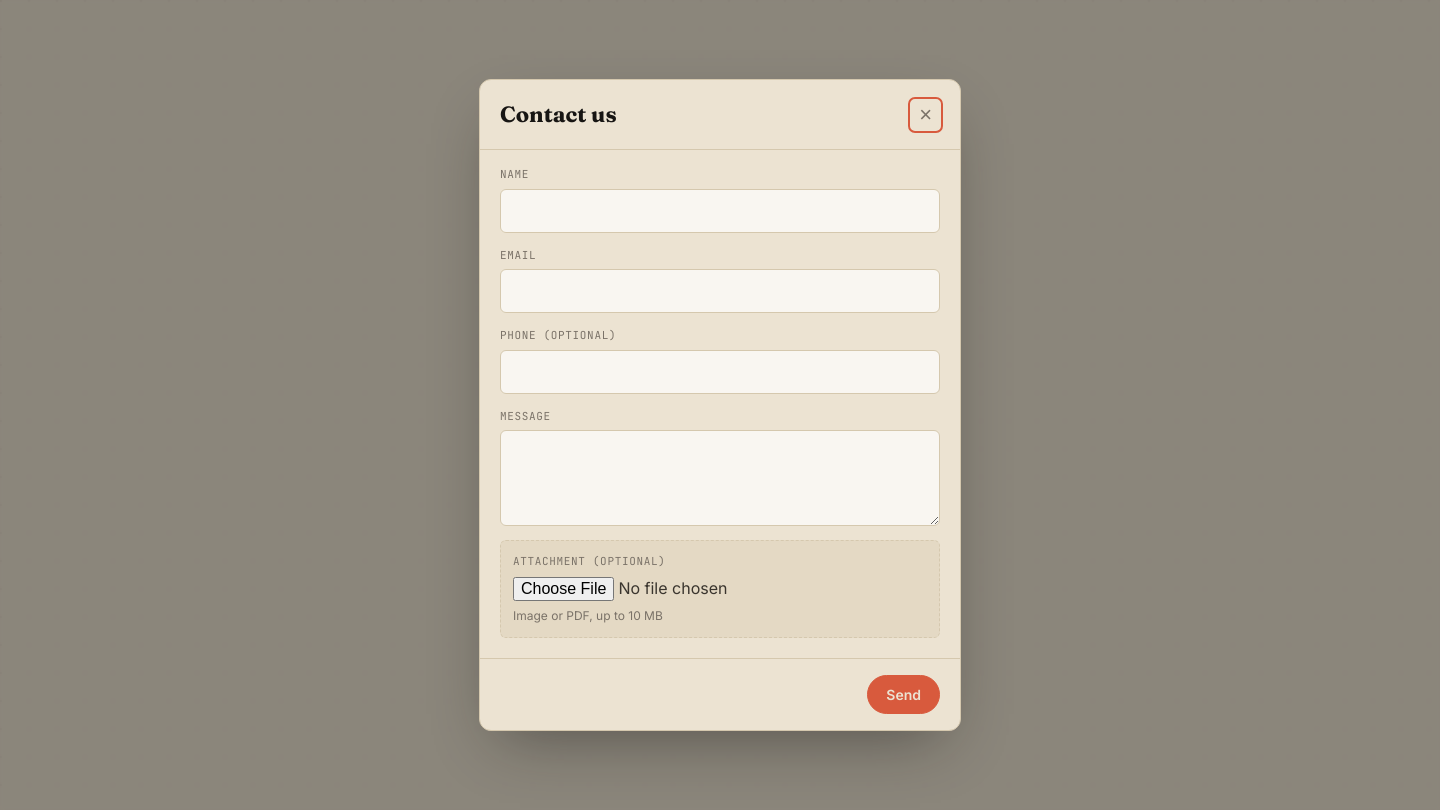
ContactDialog (authenticated) › reports an error when the upload response has no url
Type "Ada" into the field labelled "Name". click: (720, 211)
box: [500,189,940,233]
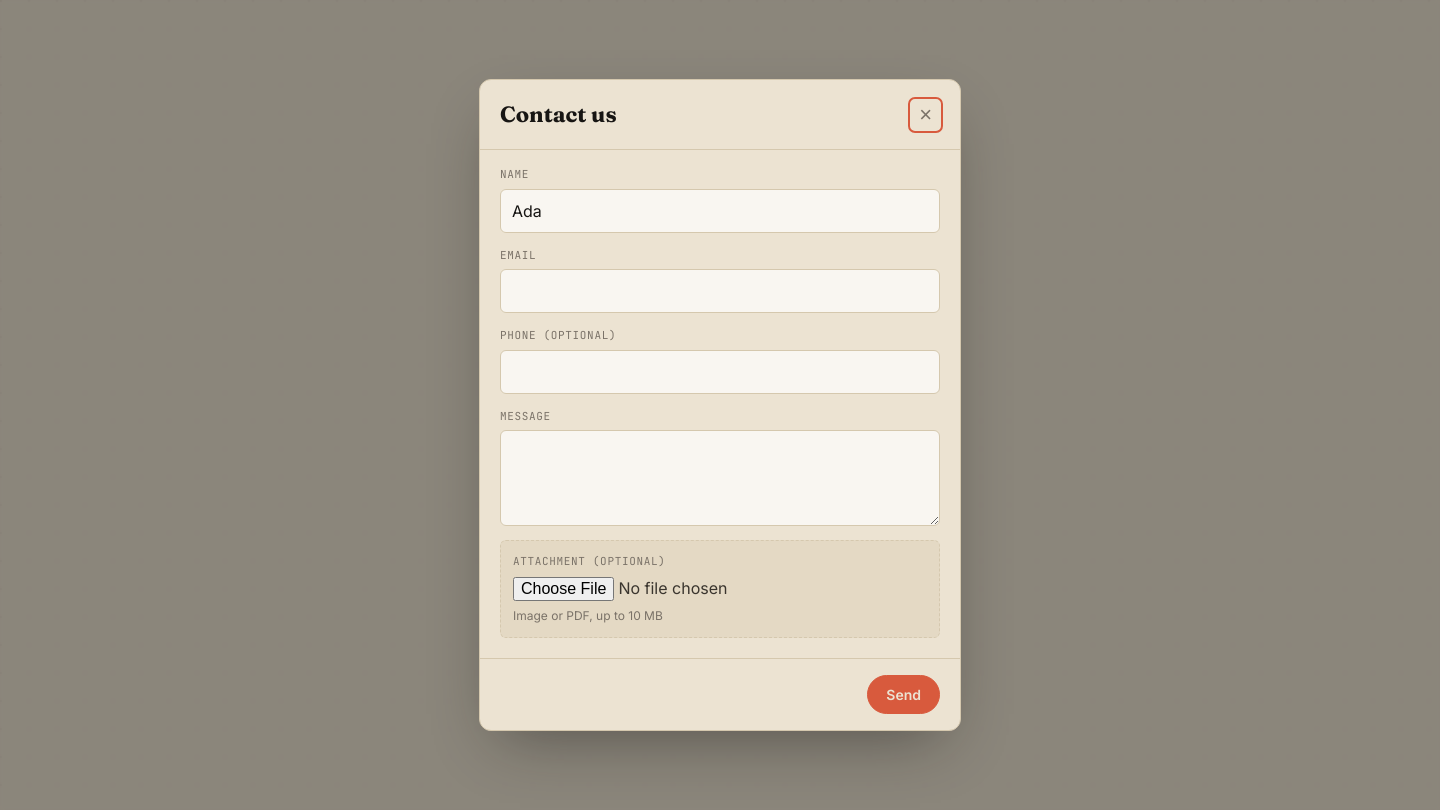
Type "ada@example.com" into the field labelled "Email". click: (720, 291)
box: [500,269,940,313]
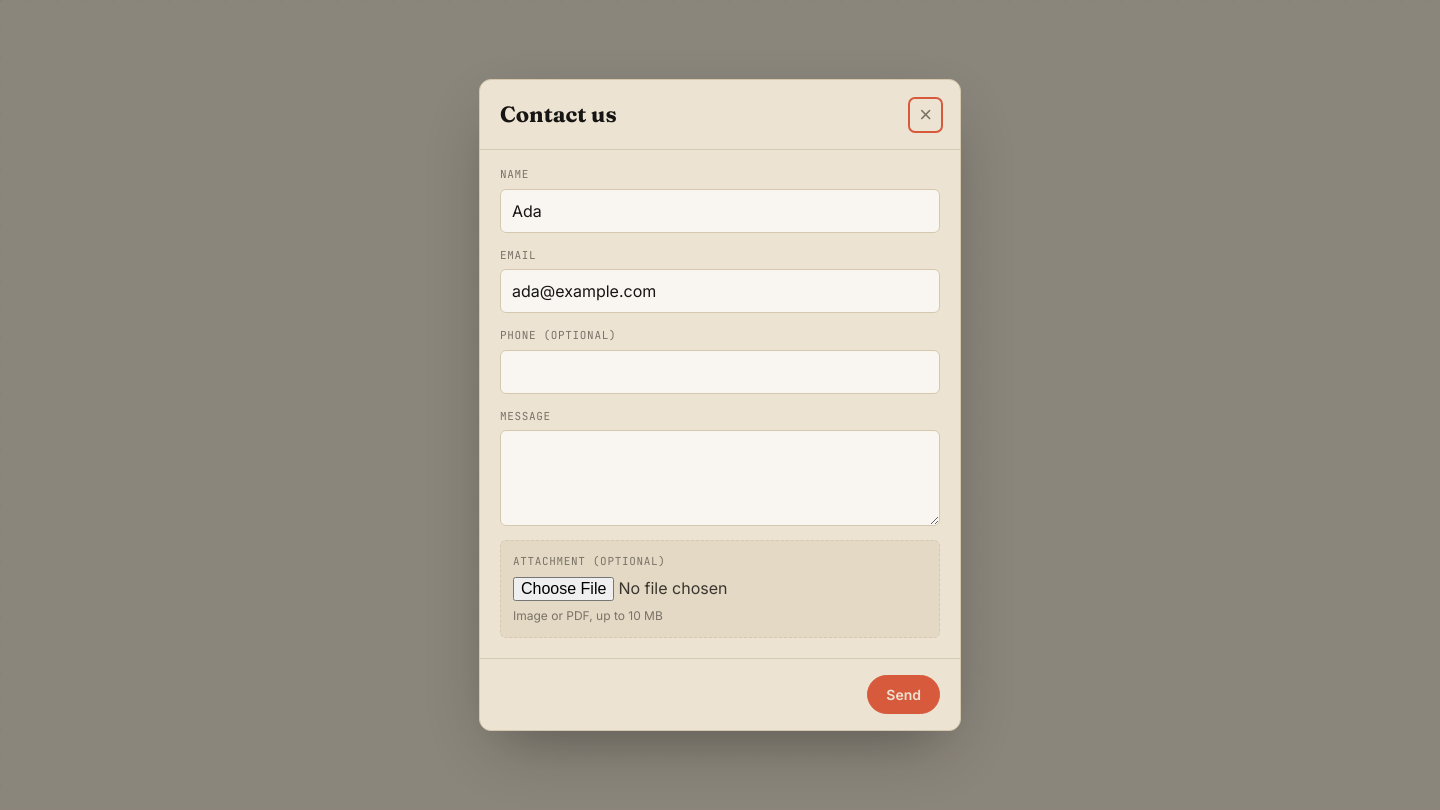
Type "hello" into the text box labelled "Message". click: (720, 478)
box: [500,430,940,526]
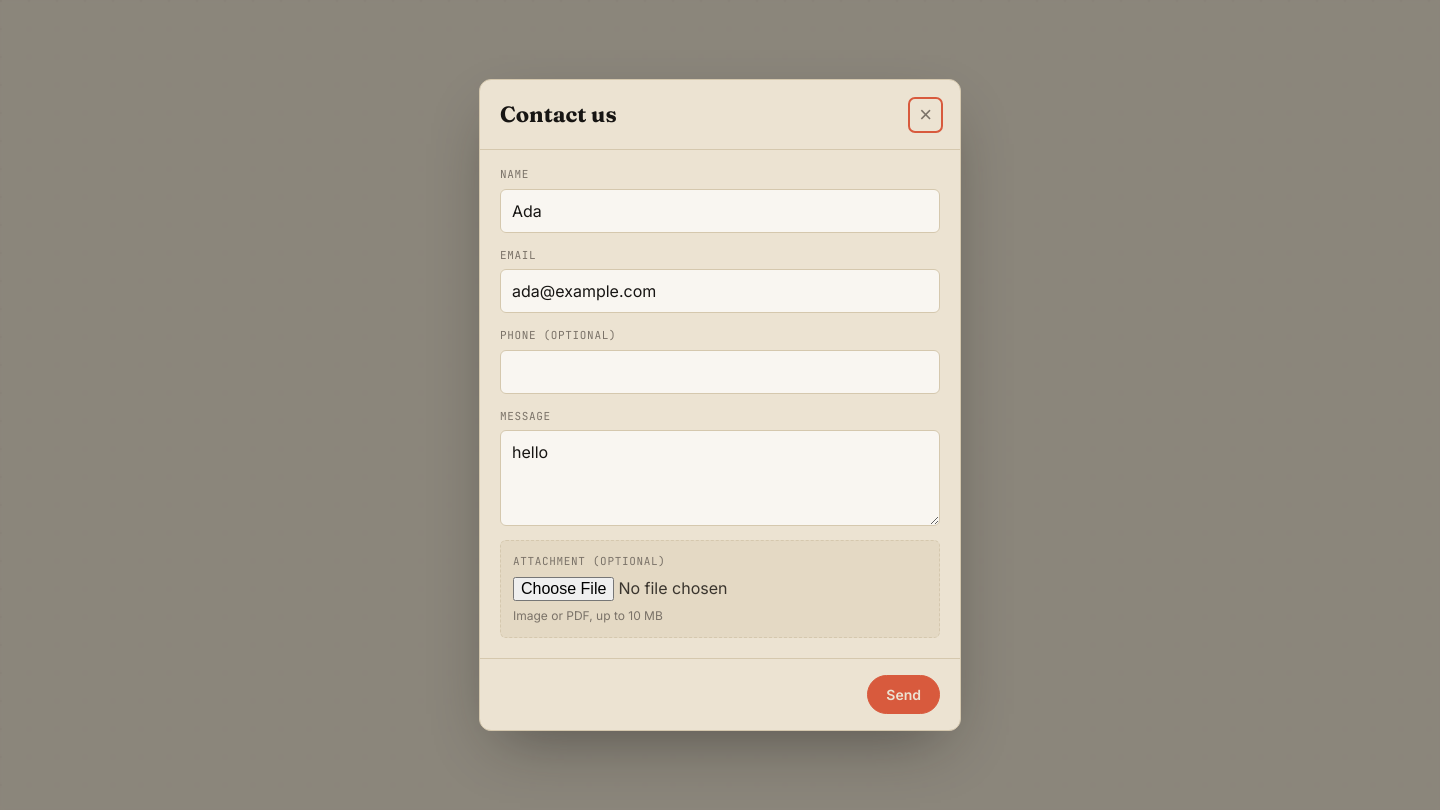
Click the button "Send". click: (904, 694)
box: [867,675,940,714]
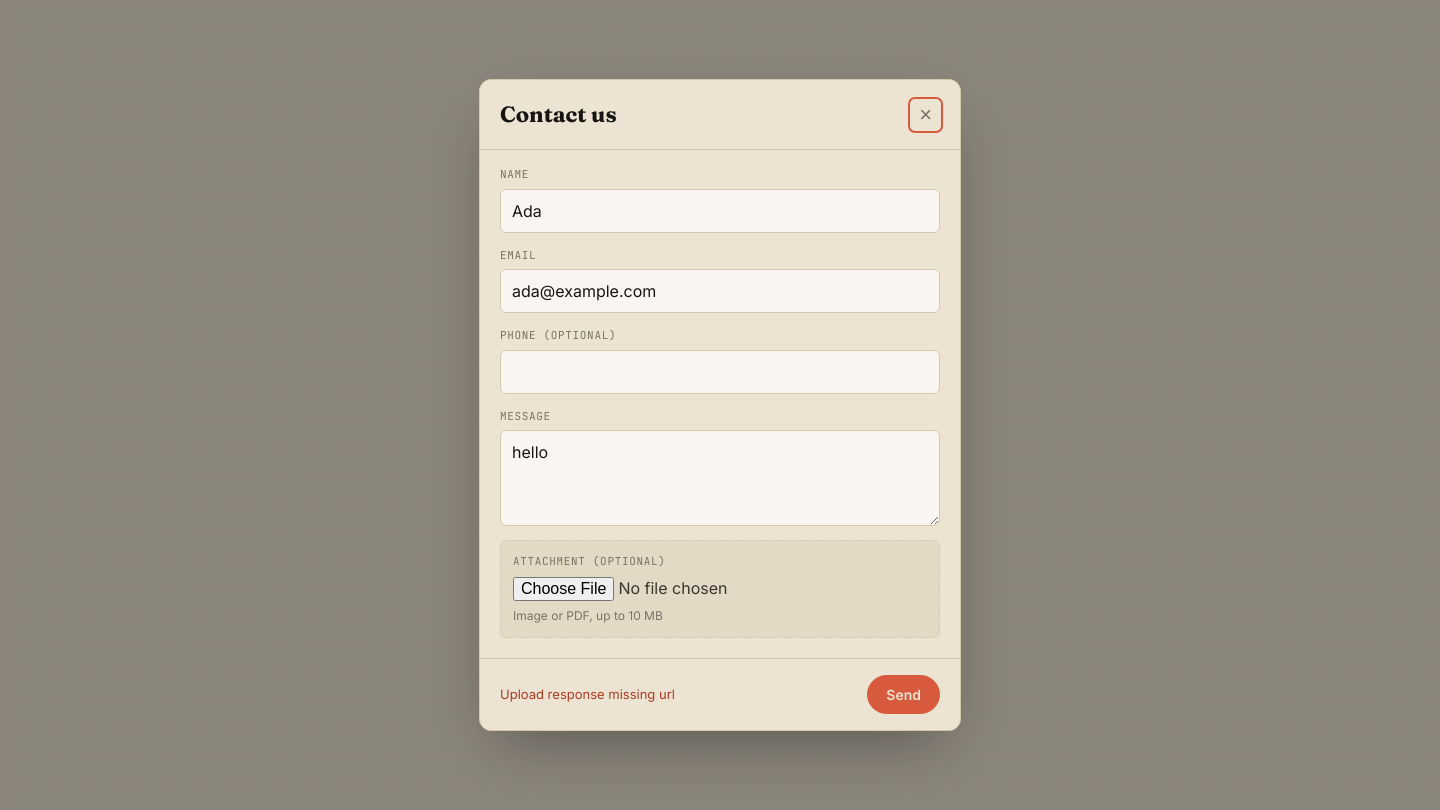
Expected: the message reads "Upload response missing url", [500,686,675,702]
